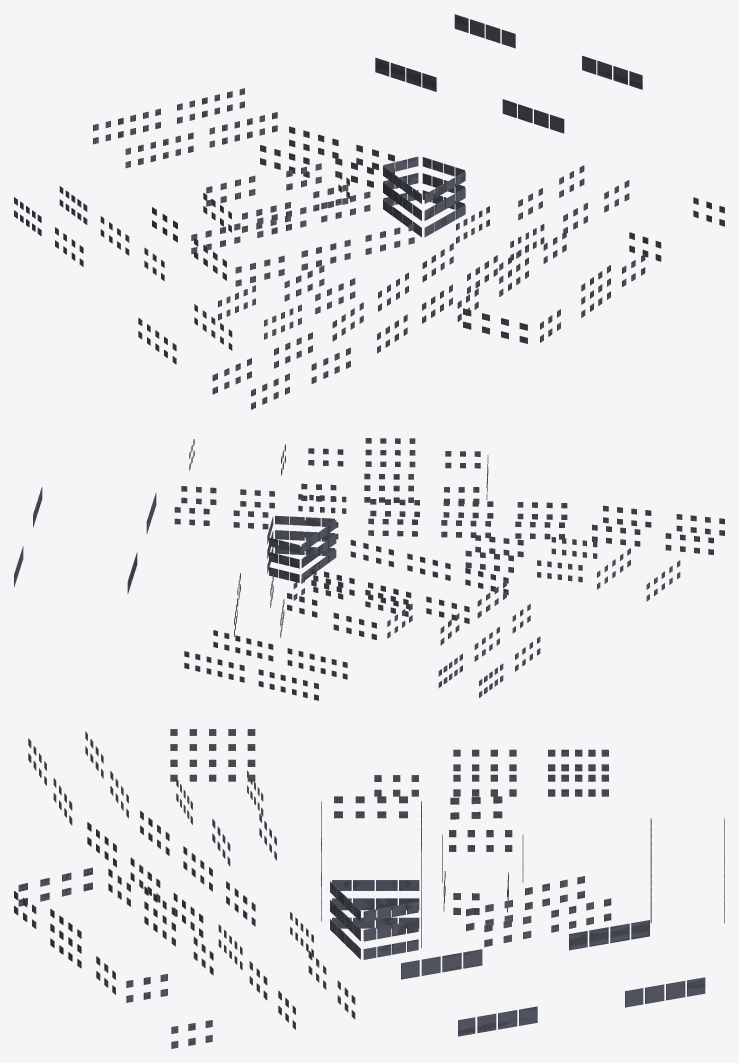
The model's file is окна.fbx.
3 views of the same model, one above another, from view 1: azimuth 30°, elevation 25°; view 2: azimuth 150°, elevation 25°; view 3: azimuth 270°, elevation 25° (orthographic). The views are drawn at different scales.
Visible parts, largest first — view 1: Cube.085, тц.002, Cube.083, Cube.084, Cube.021, Cube.081, Cube.071, Cube.072, Cube.070, Cube.077, Cube.066, Cube.008 (+1 smaller); view 2: Cube.085, Cube.021, Cube.083, Cube.084, Cube.014, тц.002, Cube.013, Cube.015, Cube.066, Cube.010, Cube.012, Cube.025 (+11 smaller); view 3: тц.002, Cube.085, Cube.008, Cube.009, Cube.007, Cube.081, Cube.021, Cube.082, Cube.019, Cube.073, Cube.014, Cube.023 (+3 smaller).
Part boxes in pixels (x1,y1,x2,y2): Cube.085: (383, 156, 465, 237); тц.002: (375, 14, 642, 133); Cube.083: (177, 88, 277, 147); Cube.084: (93, 108, 193, 168); Cube.021: (499, 244, 610, 317); Cube.081: (260, 126, 338, 177); Cube.071: (257, 207, 350, 270); Cube.072: (321, 191, 414, 254); Cube.070: (191, 223, 284, 286); Cube.077: (206, 175, 290, 232); Cube.066: (284, 265, 355, 314); Cube.008: (14, 186, 87, 235); Cube.085: (267, 515, 336, 582); Cube.021: (364, 438, 415, 502); Cube.083: (184, 630, 273, 682); Cube.084: (258, 648, 347, 700); Cube.014: (441, 500, 493, 538); тц.002: (14, 487, 156, 593); Cube.013: (515, 502, 567, 539); Cube.015: (368, 499, 419, 536); Cube.066: (465, 535, 523, 572); Cube.010: (665, 514, 724, 554); Cube.012: (592, 505, 651, 546); Cube.025: (537, 537, 597, 582); тц.002: (401, 920, 705, 1036); Cube.085: (330, 880, 421, 959); Cube.008: (548, 749, 608, 796); Cube.009: (170, 729, 255, 781); Cube.007: (453, 749, 516, 796); Cube.081: (525, 876, 611, 932); Cube.021: (50, 886, 175, 968); Cube.082: (466, 899, 531, 947); Cube.019: (126, 974, 212, 1048); Cube.073: (334, 796, 407, 818); Cube.014: (130, 846, 212, 902); Cube.023: (18, 867, 92, 906).
Size of the model in its own units: 19724 by 1694 by 18108.
Materials: 6 (6 with a texture image).
